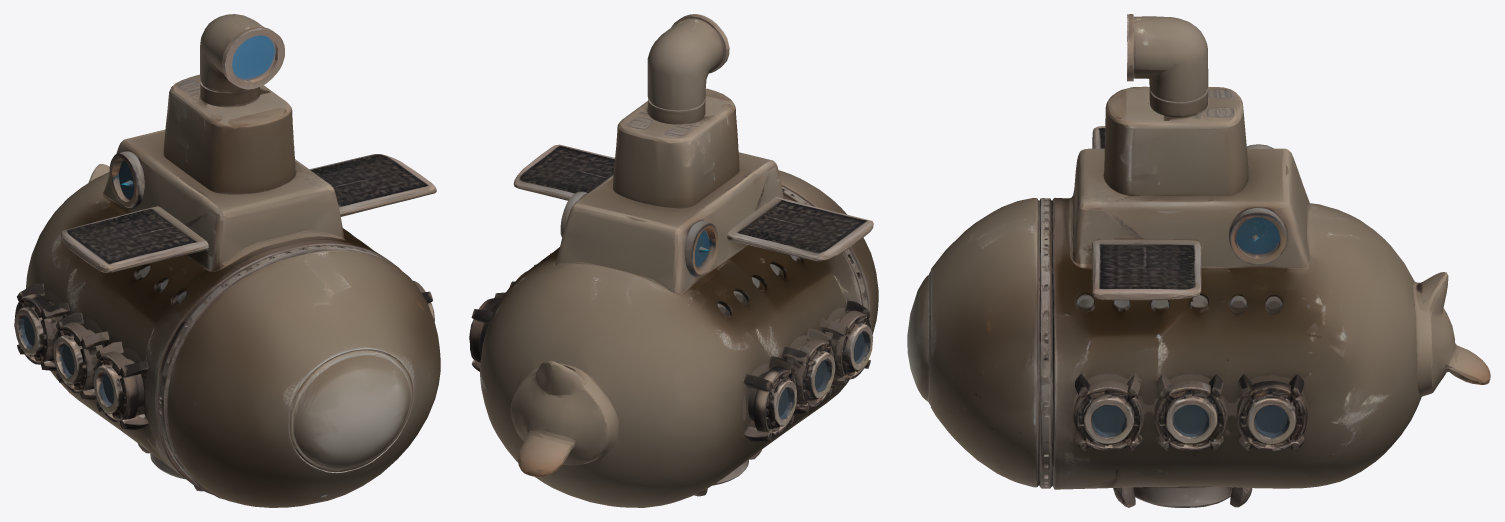
Rendered from submarine2.glb.
The picture shows the model from 3 angles, left to right: view 1: azimuth 30°, elevation 25°; view 2: azimuth 150°, elevation 25°; view 3: azimuth 270°, elevation 25°; orthographic projection. The views are drawn at different scales.
Parts seen in each view (by area): view 1: model; view 2: model; view 3: model.
Boxes of the visible parts, x1,y1,x2,y2 form: model: (14, 14, 440, 507); model: (469, 14, 878, 507); model: (907, 14, 1490, 507).
Size of the model in its own units: 1.22 by 1.57 by 1.79.
1 material, 1 textured.
